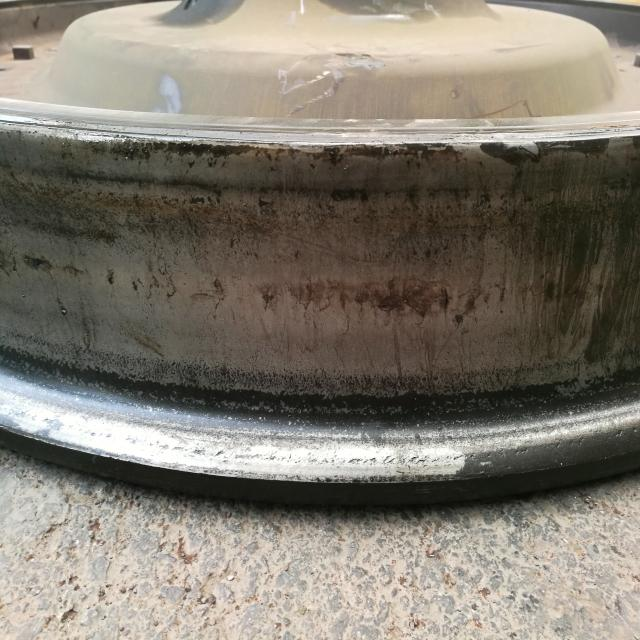Contact_Fatigue_Cracks: (263, 278, 553, 323), (17, 259, 90, 285), (152, 257, 184, 302)
